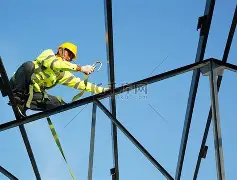safety belt: (29, 56, 64, 92)
